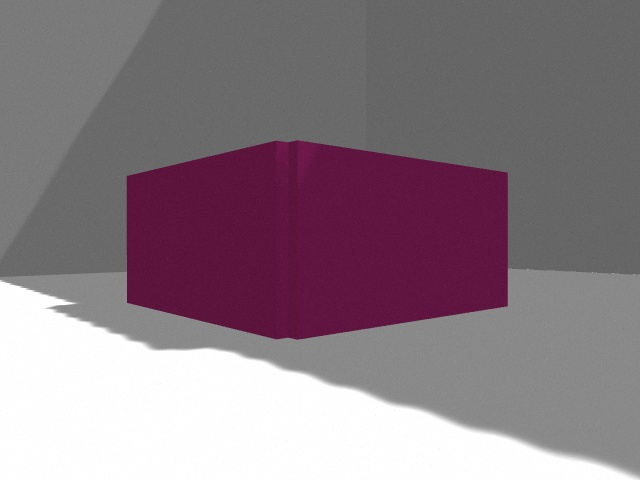red_drop_zone: (127, 140, 508, 340)
